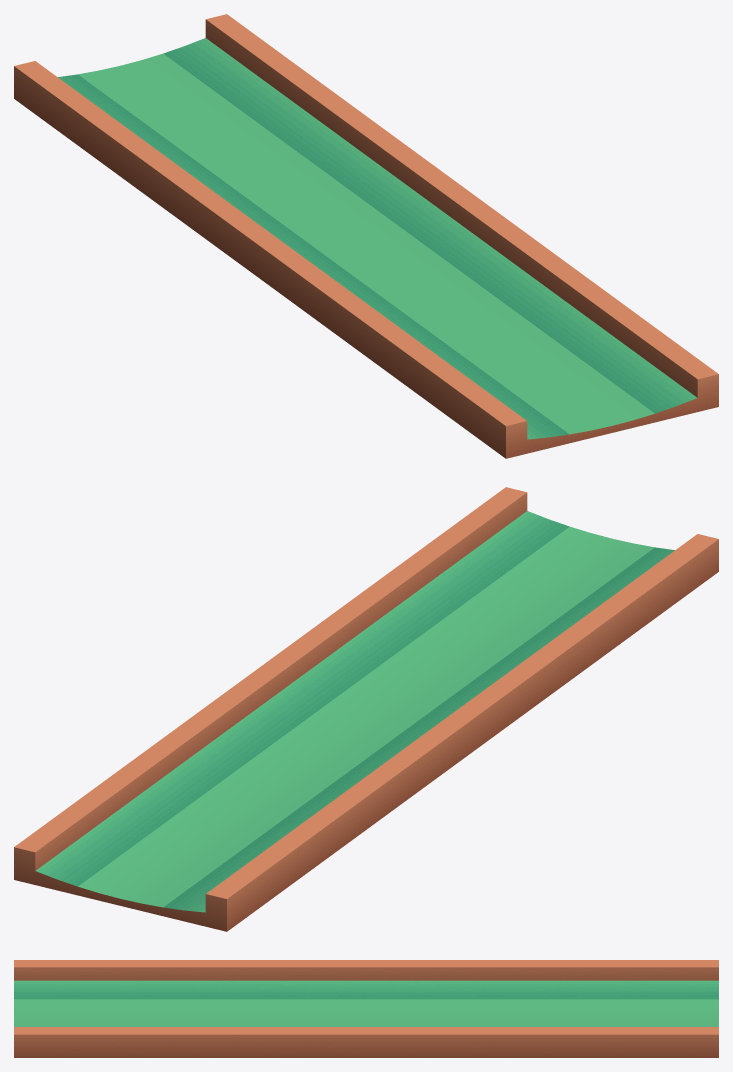
The model's file is spline-concave-straight.glb.
3 views of the same model, one above another, from view 1: azimuth 30°, elevation 25°; view 2: azimuth 150°, elevation 25°; view 3: azimuth 270°, elevation 25° (orthographic). The views are drawn at different scales.
Visible parts, largest first — view 1: spline-concave-straight; view 2: spline-concave-straight; view 3: spline-concave-straight.
Boxes of the visible parts, x1,y1,x2,y2 form: spline-concave-straight: (14,14,718,458); spline-concave-straight: (14,487,718,931); spline-concave-straight: (14,960,718,1057).
Bounding box in the file's own units: 0.9999 × 0.1467 × 4.
Materials: 1 (1 with a texture image).
